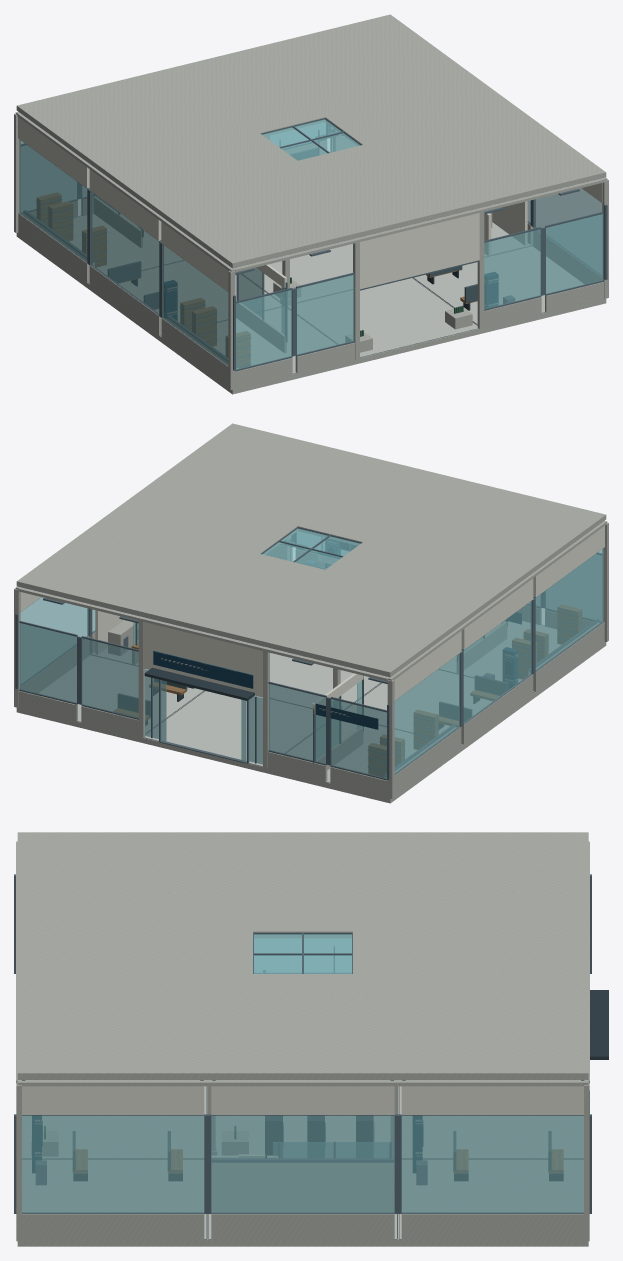
The picture shows the model from 3 angles, top to bottom: view 1: azimuth 30°, elevation 25°; view 2: azimuth 150°, elevation 25°; view 3: azimuth 270°, elevation 25°; orthographic projection. The views are drawn at different scales.
Parts seen in each view (by area): view 1: VIS_stone, VIS_glass, VIS_terrazzo, VIS_cream, VIS_aluminum, VIS_wood, VIS_seat, VIS_transitblue; view 2: VIS_stone, VIS_glass, VIS_terrazzo, VIS_cream, VIS_aluminum, VIS_wood, VIS_transitblue, VIS_darksteel, VIS_seat; view 3: VIS_stone, VIS_glass, VIS_terrazzo, VIS_cream, VIS_aluminum, VIS_darksteel, VIS_wood, VIS_transitblue.
Part boxes in pixels (x1,y1,x2,y2): VIS_stone: (14,14,608,394); VIS_glass: (19,119,602,369); VIS_terrazzo: (69,214,583,374); VIS_cream: (18,117,602,368); VIS_aluminum: (19,118,607,371); VIS_wood: (37,192,477,368); VIS_seat: (108,148,477,309); VIS_transitblue: (164,272,498,320); VIS_stone: (14,423,608,803); VIS_glass: (19,528,603,778); VIS_terrazzo: (39,621,560,783); VIS_cream: (20,526,604,777); VIS_aluminum: (15,527,603,780); VIS_wood: (113,604,581,777); VIS_transitblue: (153,539,521,729); VIS_darksteel: (77,533,534,782); VIS_seat: (118,562,507,721); VIS_stone: (16,832,589,1246); VIS_glass: (22,934,583,1212); VIS_terrazzo: (22,1086,583,1239); VIS_cream: (22,1086,583,1211); VIS_aluminum: (14,874,591,1213); VIS_darksteel: (73,990,608,1239); VIS_wood: (73,1149,563,1173); VIS_transitblue: (32,1116,422,1172).
Size of the model in its own units: 24.3 by 8.04 by 25.01.
Materials: 15 (15 with a texture image).
